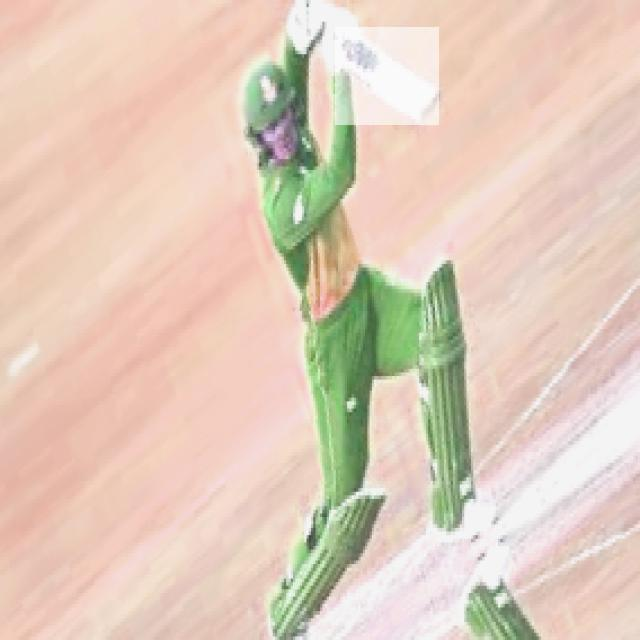bat: (330, 28, 442, 127)
toe: (420, 93, 441, 125)
